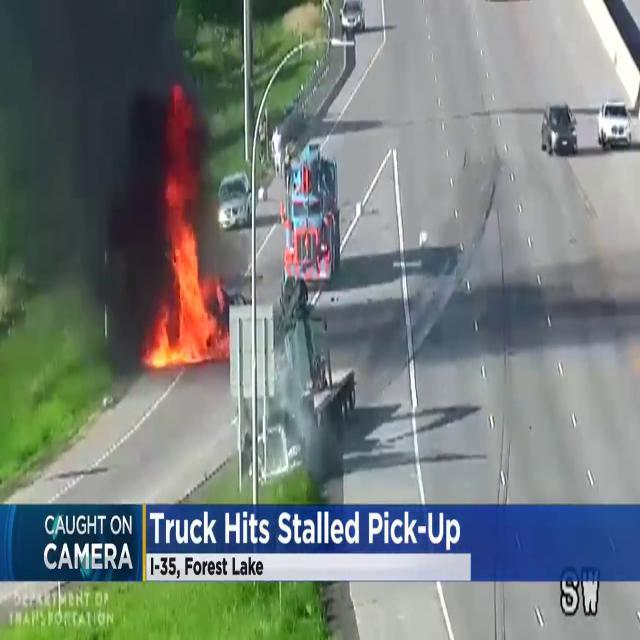Fire: (148, 186, 222, 369)
Smoke: (0, 1, 204, 359)
